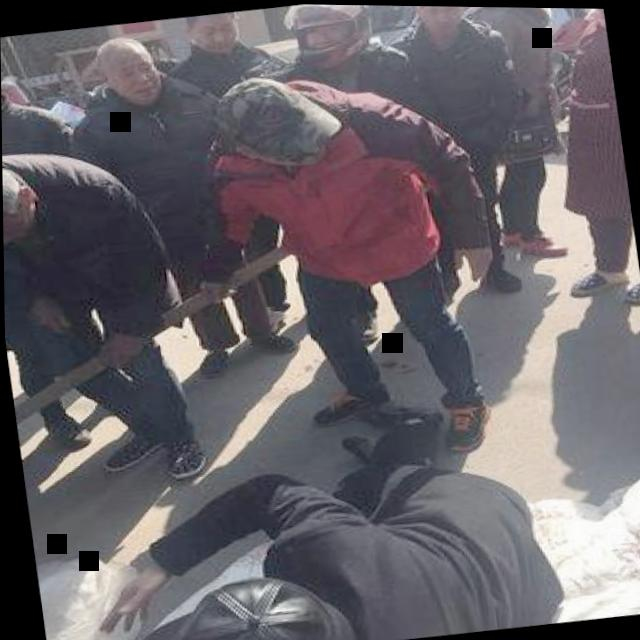Fall-Detected: (18, 377, 640, 640)
